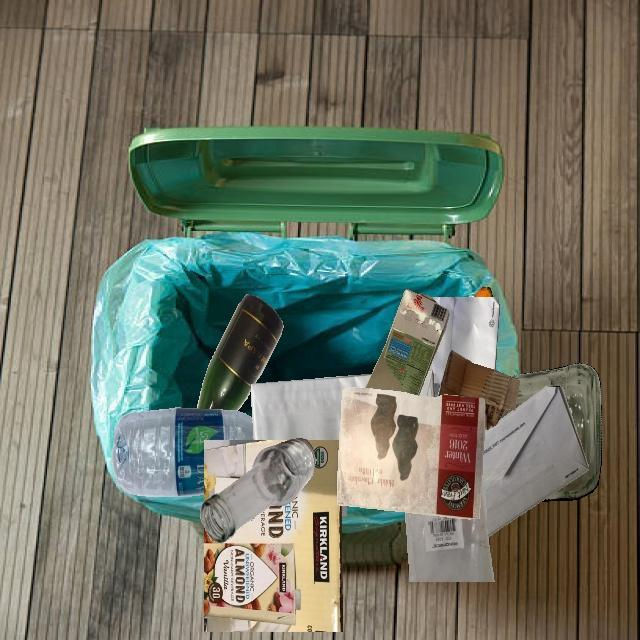biowaste: (474, 286, 493, 297)
cardboard: (204, 440, 343, 632), (365, 289, 450, 396), (438, 349, 519, 430)
glass: (200, 438, 316, 543), (197, 294, 283, 411), (542, 386, 602, 501), (509, 363, 601, 408)
paper: (337, 387, 485, 519), (481, 386, 589, 538), (251, 374, 372, 440), (428, 297, 500, 384), (341, 505, 347, 517)
plastic: (112, 408, 254, 497), (405, 482, 494, 582), (433, 383, 441, 397)
